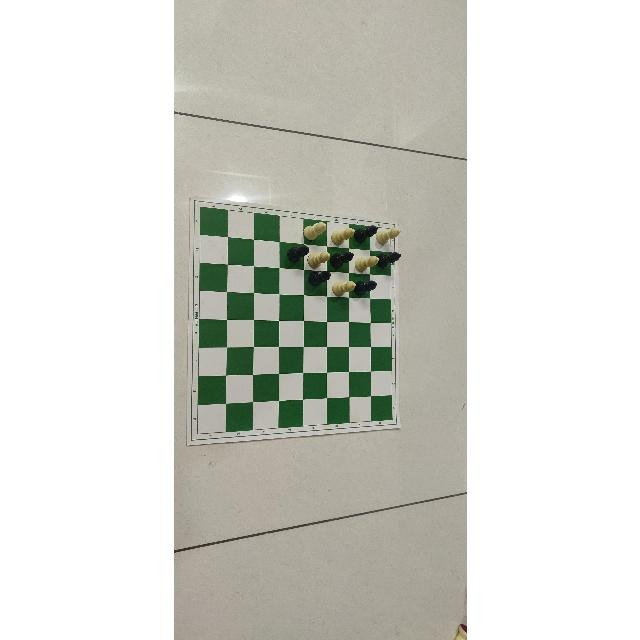black-bishop: (376, 251, 400, 268), (354, 225, 377, 242), (286, 245, 308, 262), (329, 252, 352, 268), (353, 280, 377, 295), (307, 271, 330, 286)
white-bishop: (302, 222, 326, 240), (306, 250, 329, 268), (330, 227, 354, 244), (375, 228, 400, 244), (353, 256, 378, 272), (330, 280, 355, 295)
